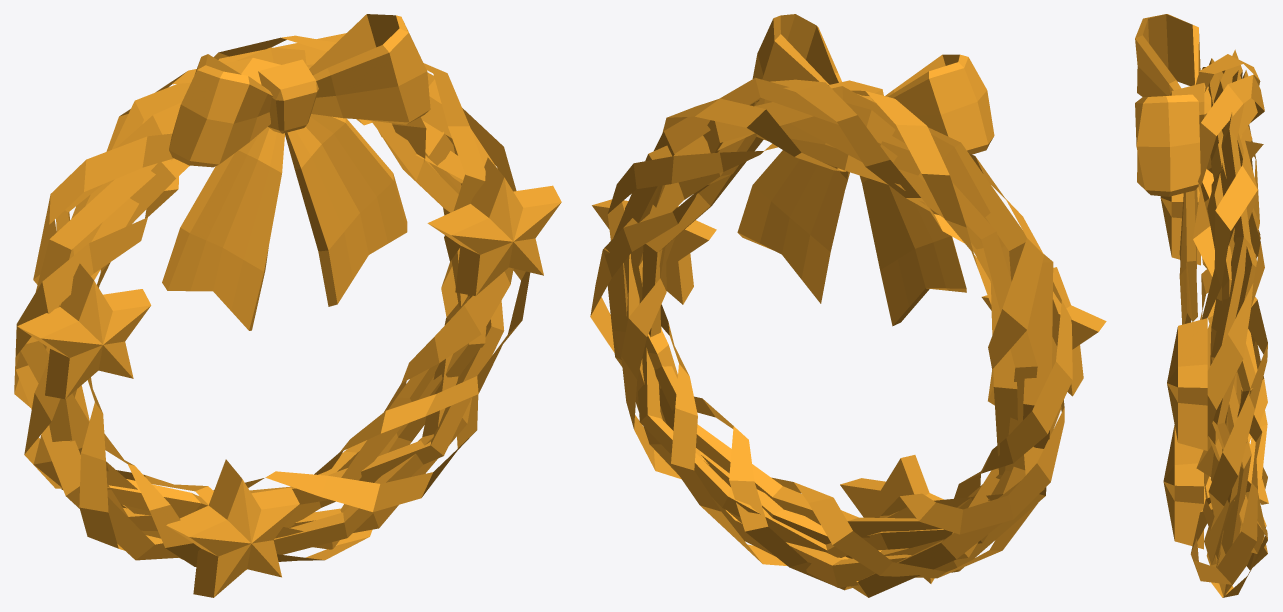
Rendered from SM_Wreath_4july_Wall_A.fbx.
The picture shows the model from 3 angles, left to right: view 1: azimuth 30°, elevation 25°; view 2: azimuth 150°, elevation 25°; view 3: azimuth 270°, elevation 25°; orthographic projection. The views are drawn at different scales.
Visible parts, largest first — view 1: wreath-4july-wall-a; view 2: wreath-4july-wall-a; view 3: wreath-4july-wall-a.
Boxes of the visible parts, x1,y1,x2,y2 form: wreath-4july-wall-a: [14, 14, 561, 597]; wreath-4july-wall-a: [590, 14, 1106, 597]; wreath-4july-wall-a: [1135, 14, 1268, 597].
Bounding box in the file's own units: 0.5457 × 0.54 × 0.128.
